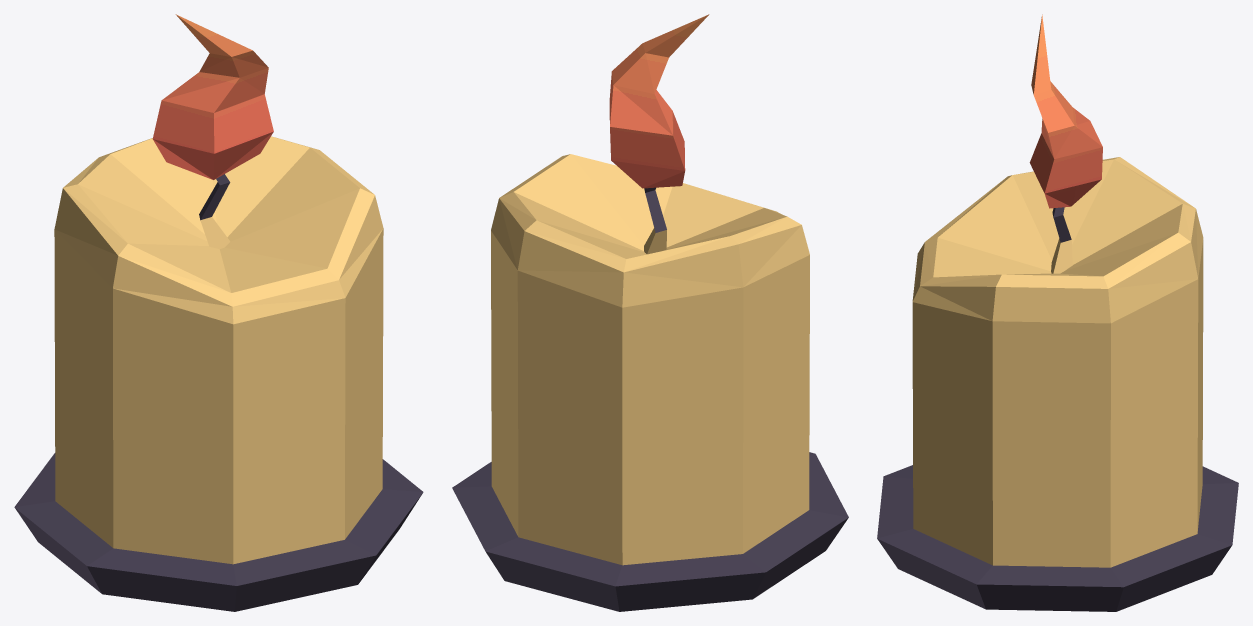
File: Candle.fbx
The picture shows the model from 3 angles, left to right: view 1: azimuth 30°, elevation 25°; view 2: azimuth 150°, elevation 25°; view 3: azimuth 270°, elevation 25°; orthographic projection. The views are drawn at different scales.
Visible parts, largest first — view 1: _candle:_candle_0; view 2: _candle:_candle_0; view 3: _candle:_candle_0.
Part boxes in pixels (x1,y1,x2,y2): _candle:_candle_0: [14, 14, 423, 611]; _candle:_candle_0: [452, 14, 848, 611]; _candle:_candle_0: [877, 14, 1238, 611].
Bounding box in the file's own units: 0.6321 × 0.9764 × 0.6321.
